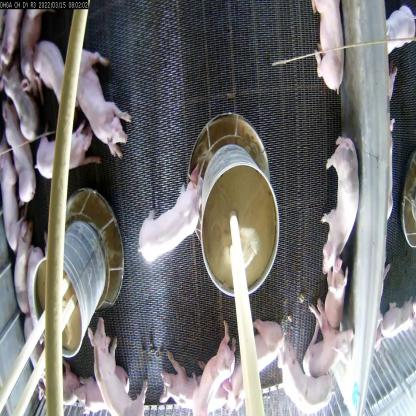Pig: (74, 39, 133, 164), (87, 312, 156, 416), (137, 159, 203, 265), (320, 127, 362, 291), (225, 308, 283, 407), (274, 332, 336, 414), (159, 342, 224, 415), (302, 291, 352, 382), (190, 310, 235, 409), (2, 99, 42, 205), (34, 119, 96, 186), (0, 38, 34, 150), (307, 0, 347, 94), (12, 213, 39, 318), (324, 251, 346, 376), (18, 7, 46, 96), (0, 139, 21, 253), (380, 288, 415, 346)
